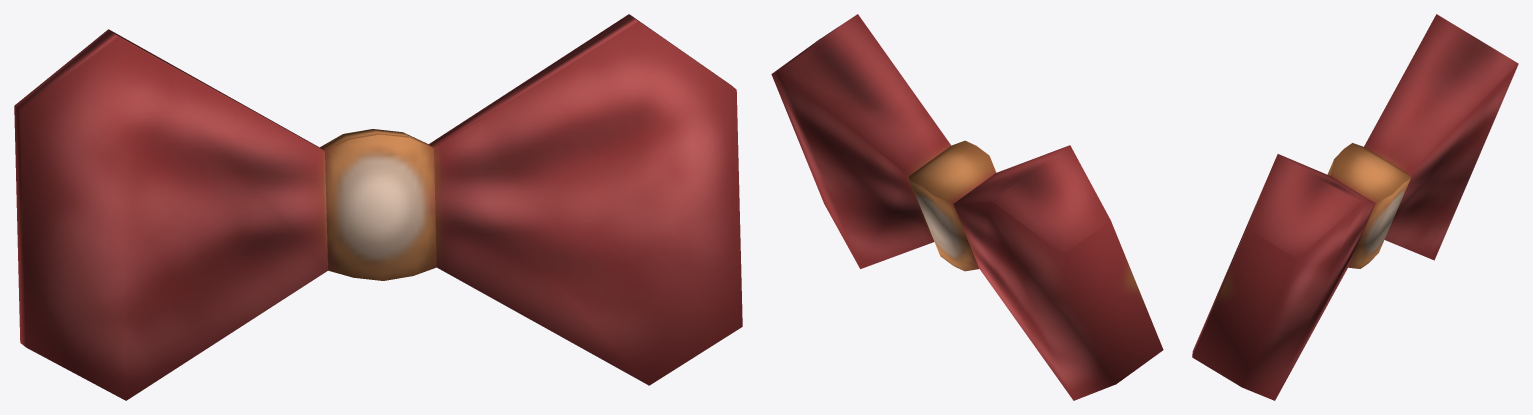
Rendered from TianZhuJiaoTang_01_hudietouhua_01.FBX.
3 views of the same model, side by side, from view 1: azimuth 30°, elevation 25°; view 2: azimuth 150°, elevation 25°; view 3: azimuth 270°, elevation 25° (orthographic). The views are drawn at different scales.
Parts seen in each view (by area): view 1: TianZhuJiaoTang_01_hudietouhua_01; view 2: TianZhuJiaoTang_01_hudietouhua_01; view 3: TianZhuJiaoTang_01_hudietouhua_01.
Boxes of the visible parts, x1,y1,x2,y2 form: TianZhuJiaoTang_01_hudietouhua_01: (14, 14, 742, 400); TianZhuJiaoTang_01_hudietouhua_01: (771, 14, 1163, 400); TianZhuJiaoTang_01_hudietouhua_01: (1192, 14, 1518, 400).
Bounding box in the file's own units: 135 × 73.33 × 87.35.
